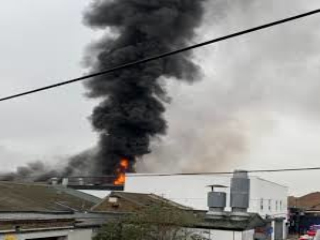fire: (110, 158, 132, 189)
smoke: (83, 2, 203, 159)
